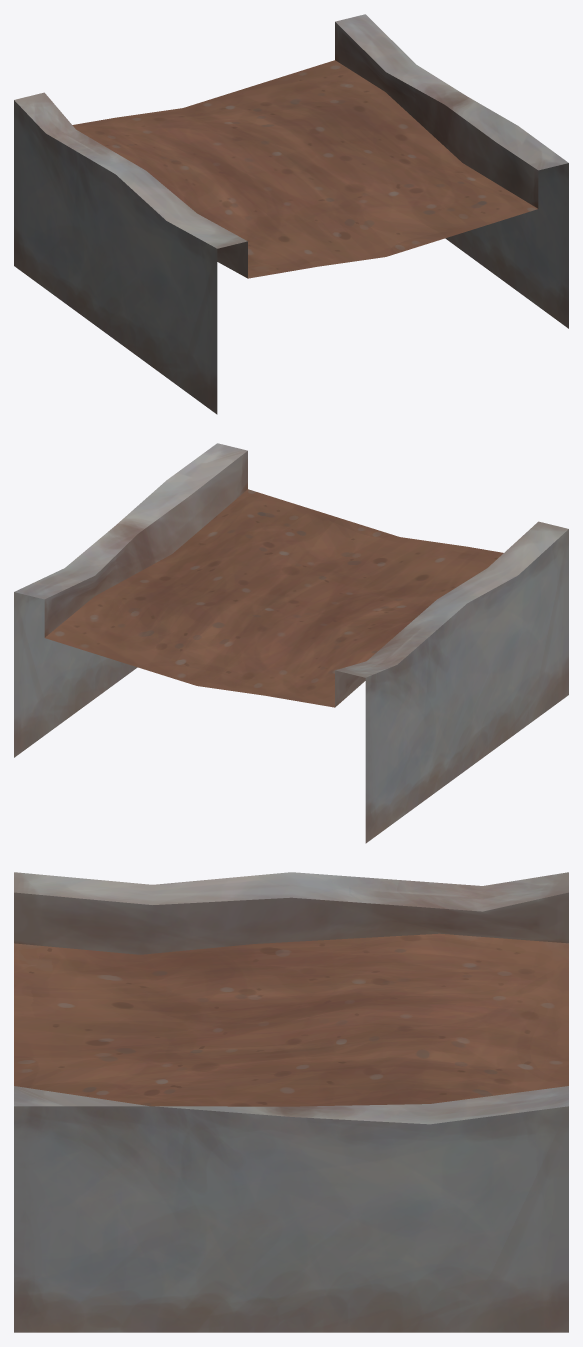
Rendered from Planter_01_middle.fbx.
The picture shows the model from 3 angles, top to bottom: view 1: azimuth 30°, elevation 25°; view 2: azimuth 150°, elevation 25°; view 3: azimuth 270°, elevation 25°; orthographic projection. The views are drawn at different scales.
Visible parts, largest first — view 1: Planter_middle; view 2: Planter_middle; view 3: Planter_middle.
Part boxes in pixels (x1=…): Planter_middle: x1=14, y1=14, x2=568, y2=414; Planter_middle: x1=14, y1=443, x2=568, y2=843; Planter_middle: x1=14, y1=872, x2=568, y2=1332.
Bounding box in the file's own units: 100 × 45.11 × 100.
